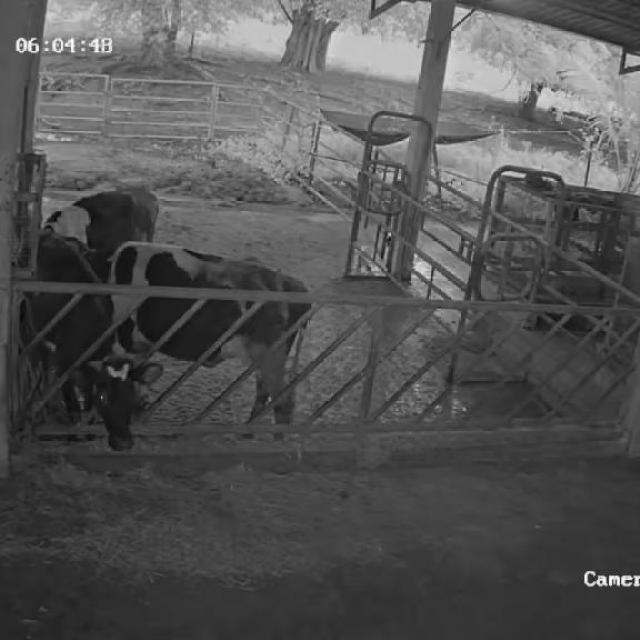feeding: (27, 228, 169, 464)
standing: (83, 240, 317, 436), (17, 183, 159, 267)
